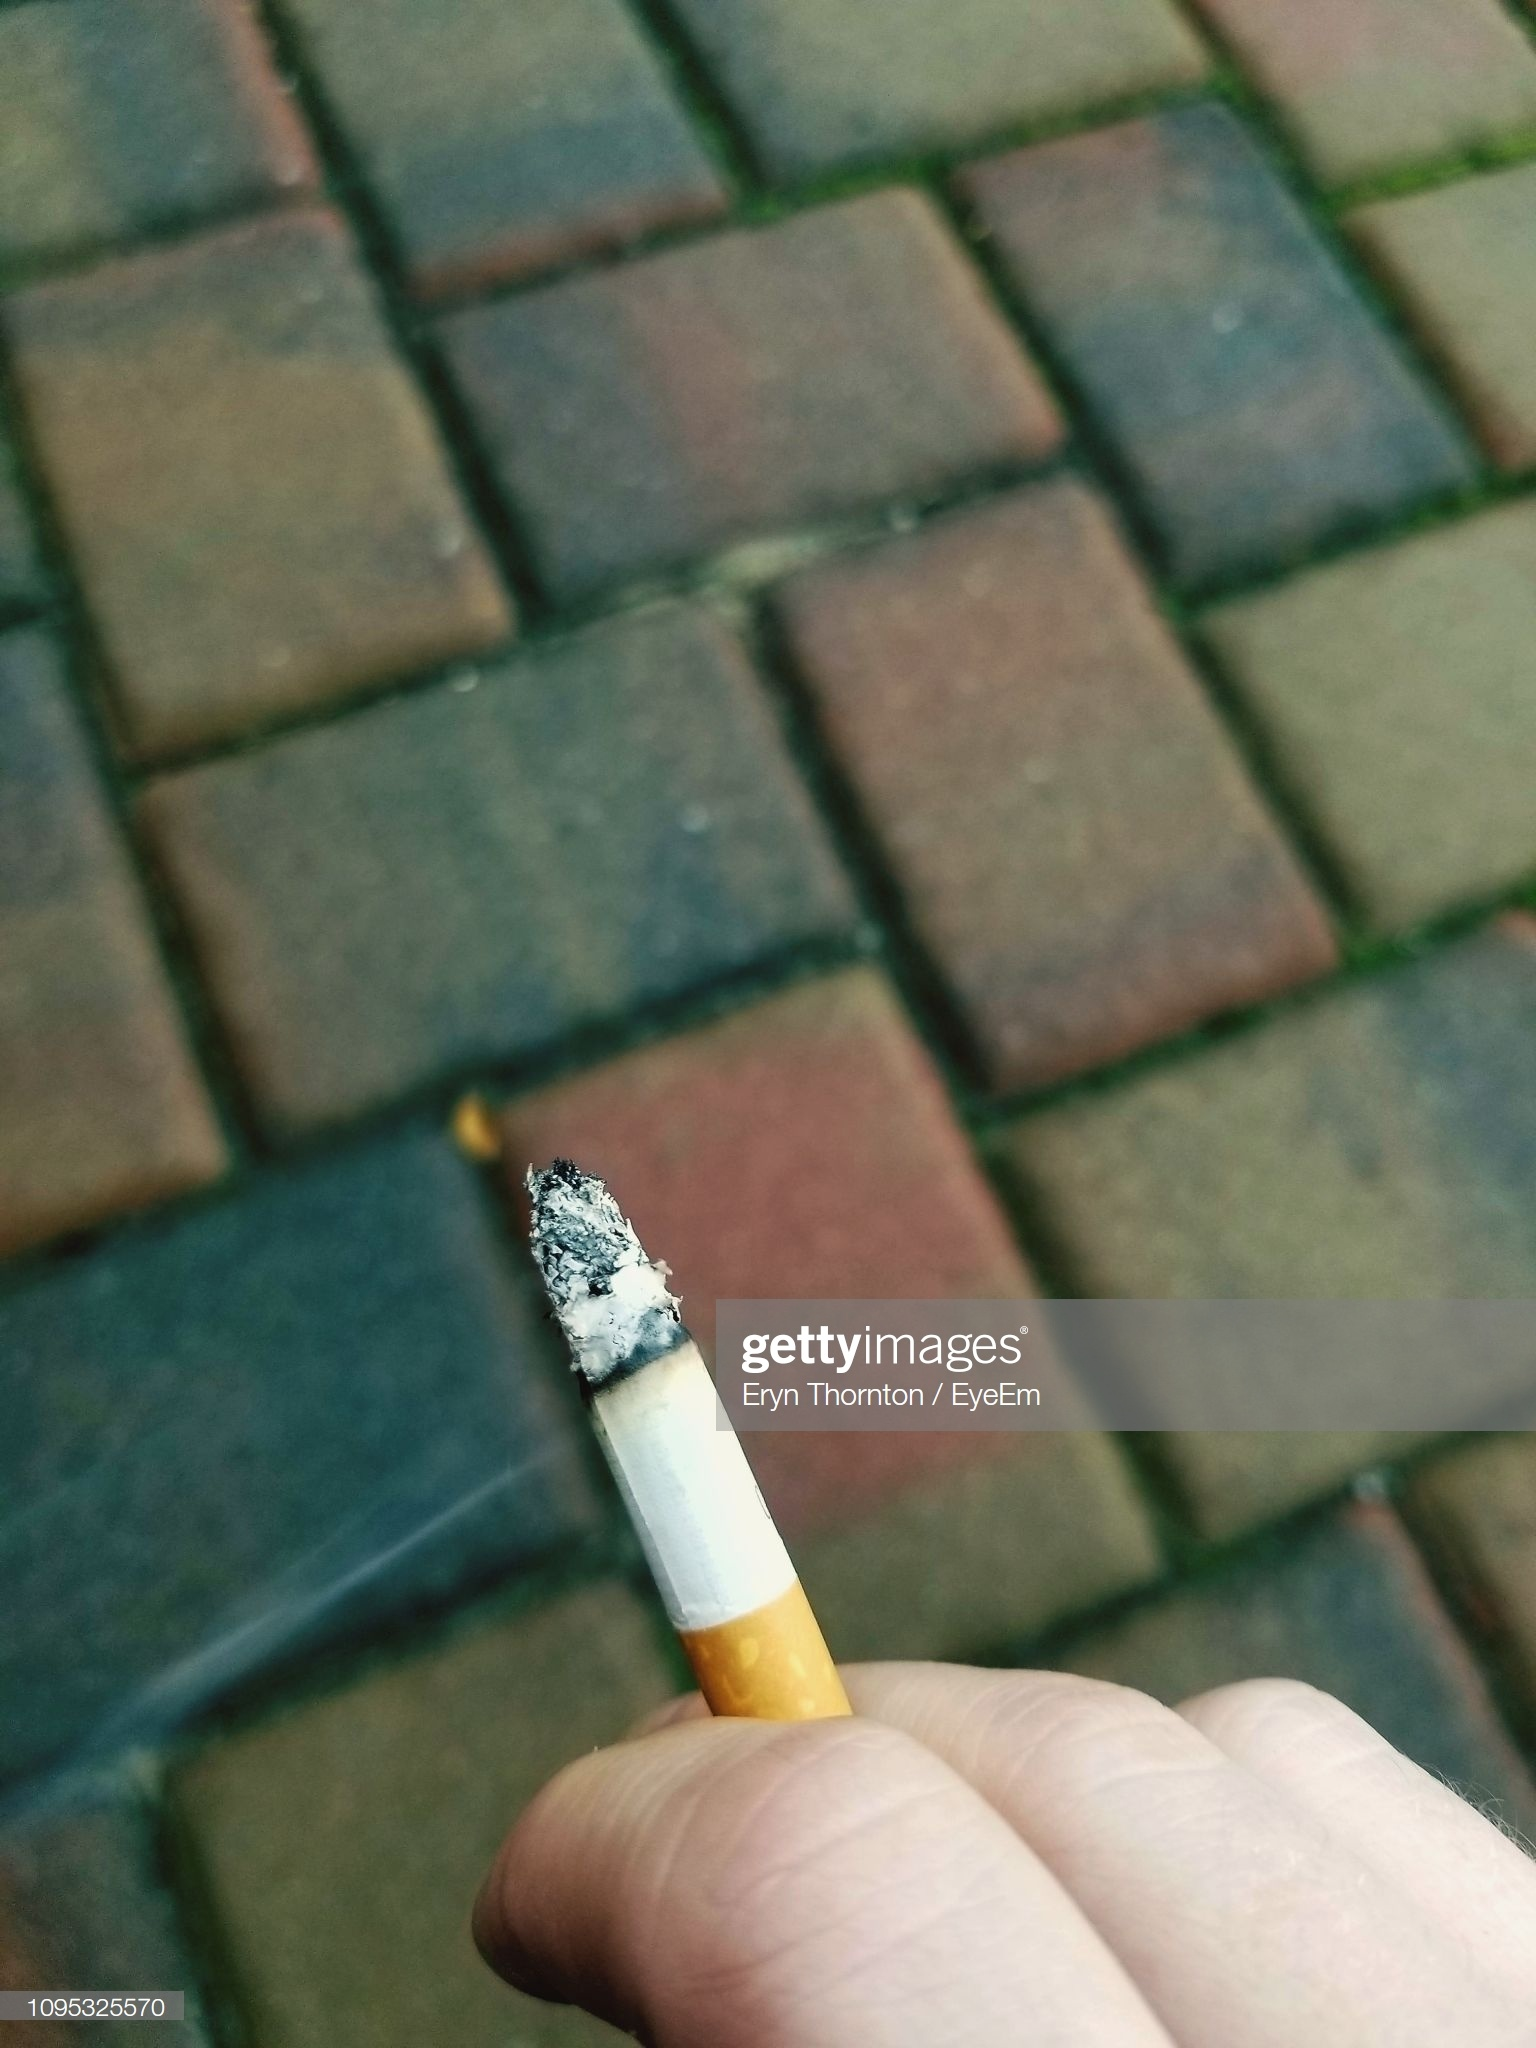sigaretta: (494, 1184, 833, 1725)
